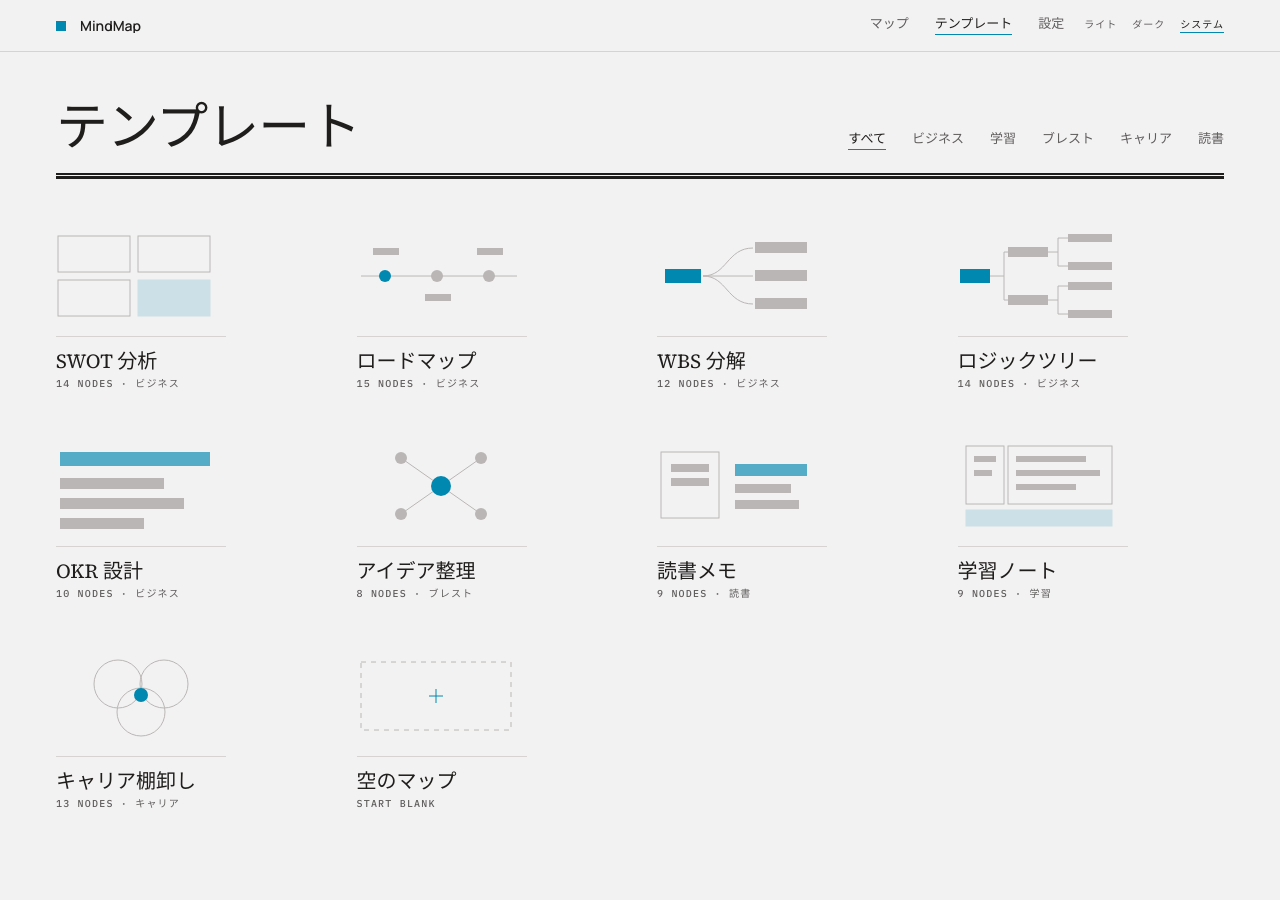
it: テンプレート画面 › 分類で絞り込める。「空のマップ」はどの分類でも残る
The image size is (1280, 900).
Click the button "読書": (1211, 141) top-left (1198, 132), bottom-right (1224, 150)
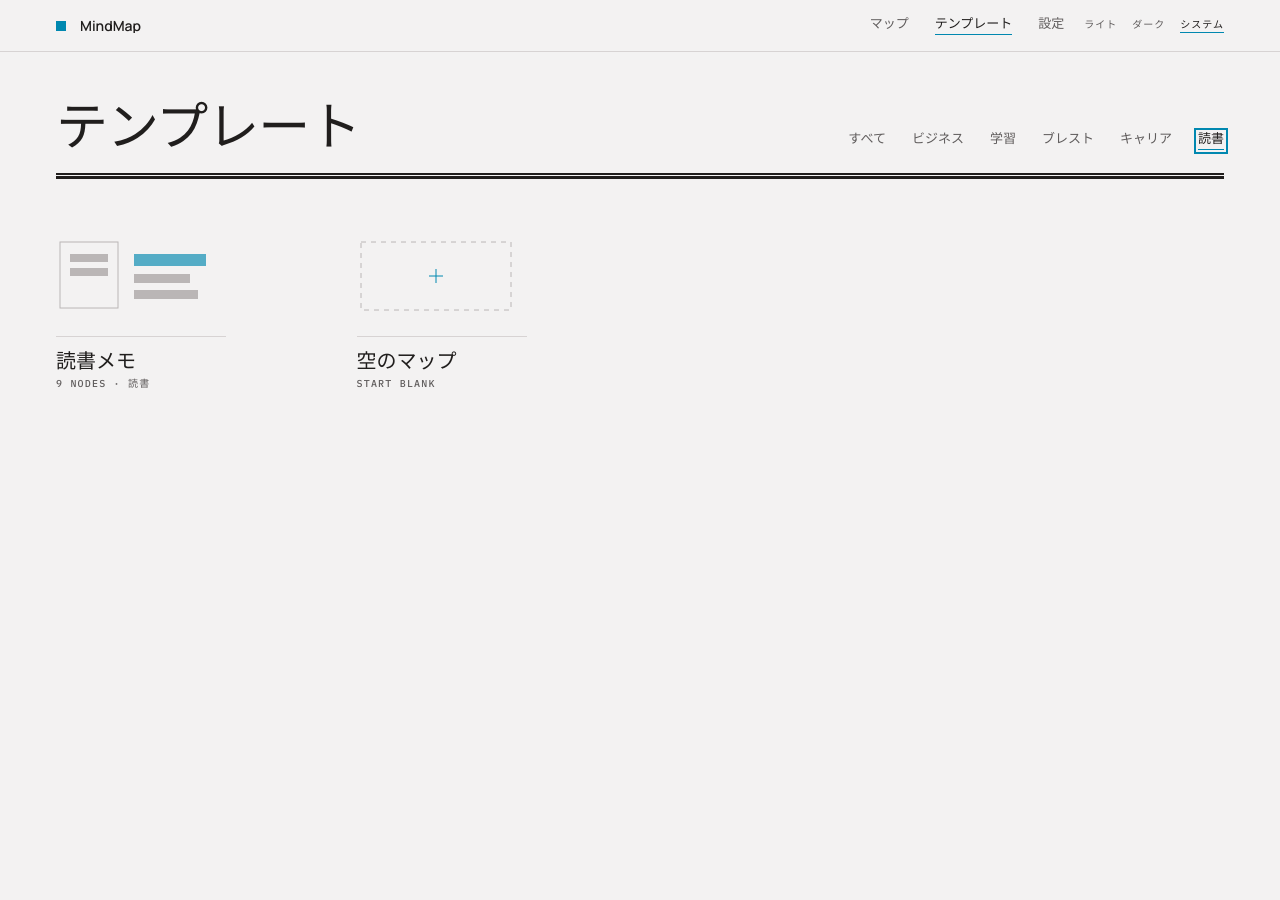
Expected: the text "読書メモ" is shown, top-left (56, 349), bottom-right (136, 373)
Expected: the button "SWOT 分析" is gone
